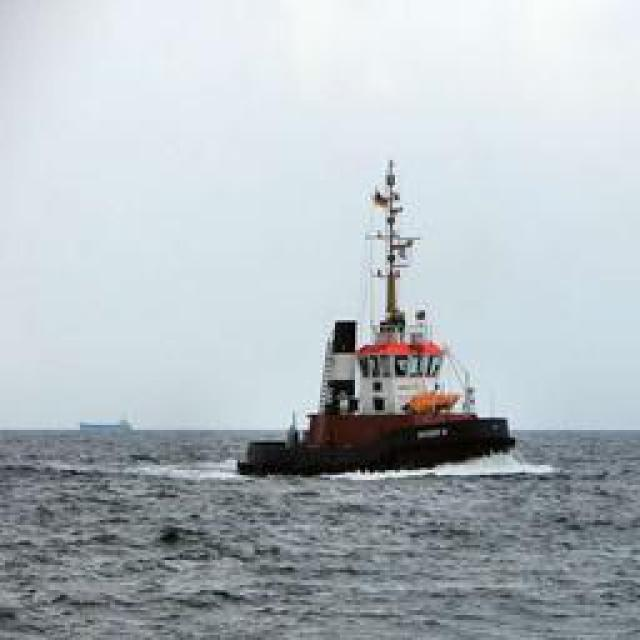CIV_Ship: (241, 152, 511, 480)
